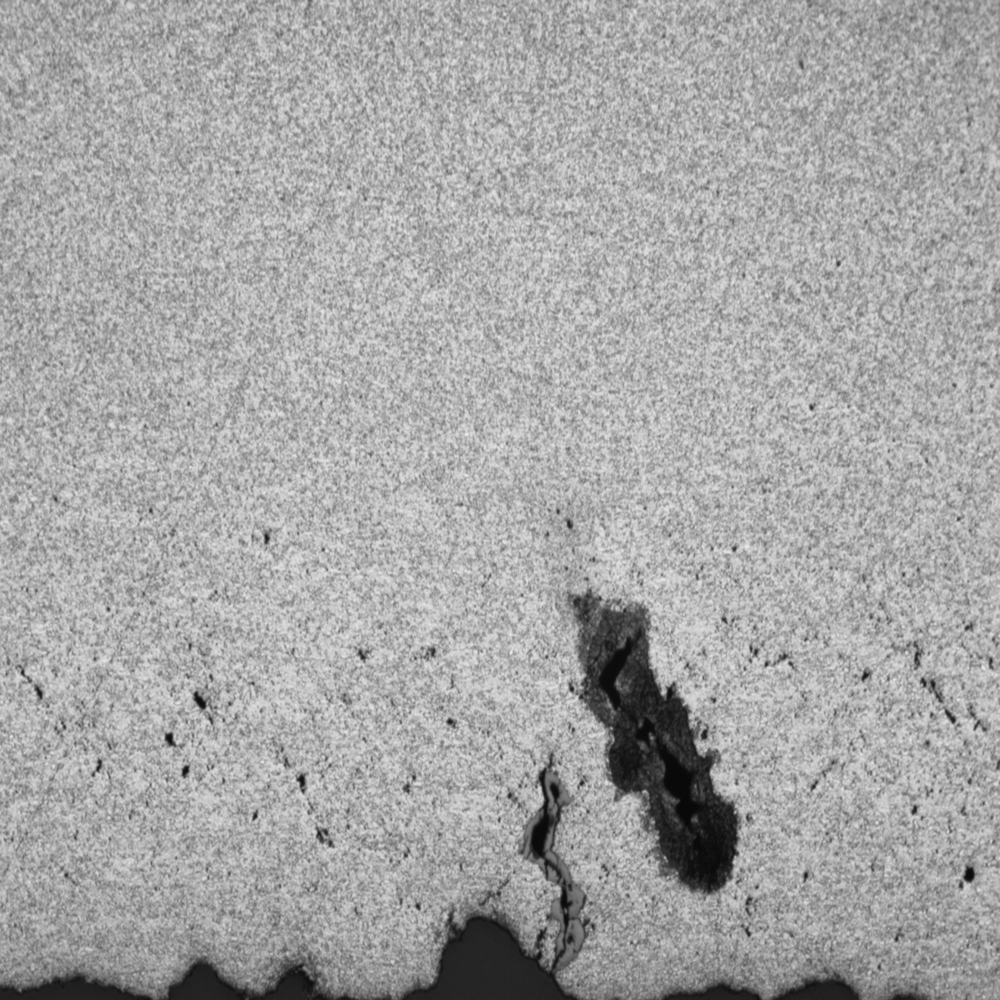crack: (516, 546, 760, 879), (482, 736, 615, 988)
